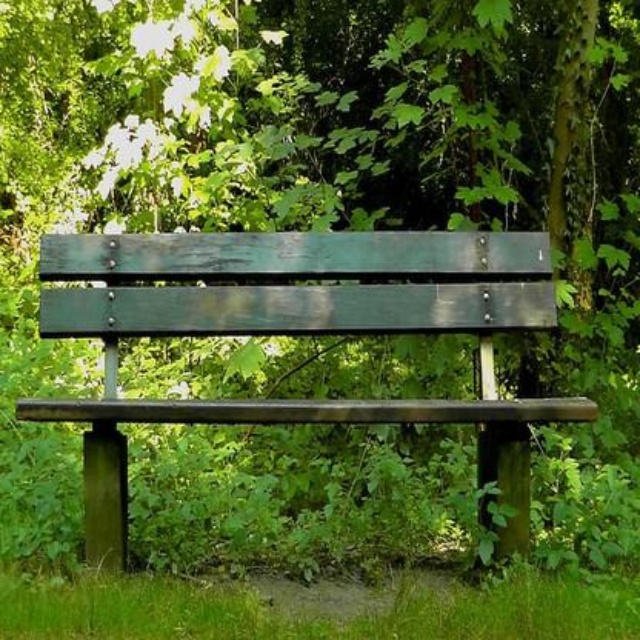obstacle: (17, 211, 603, 563)
